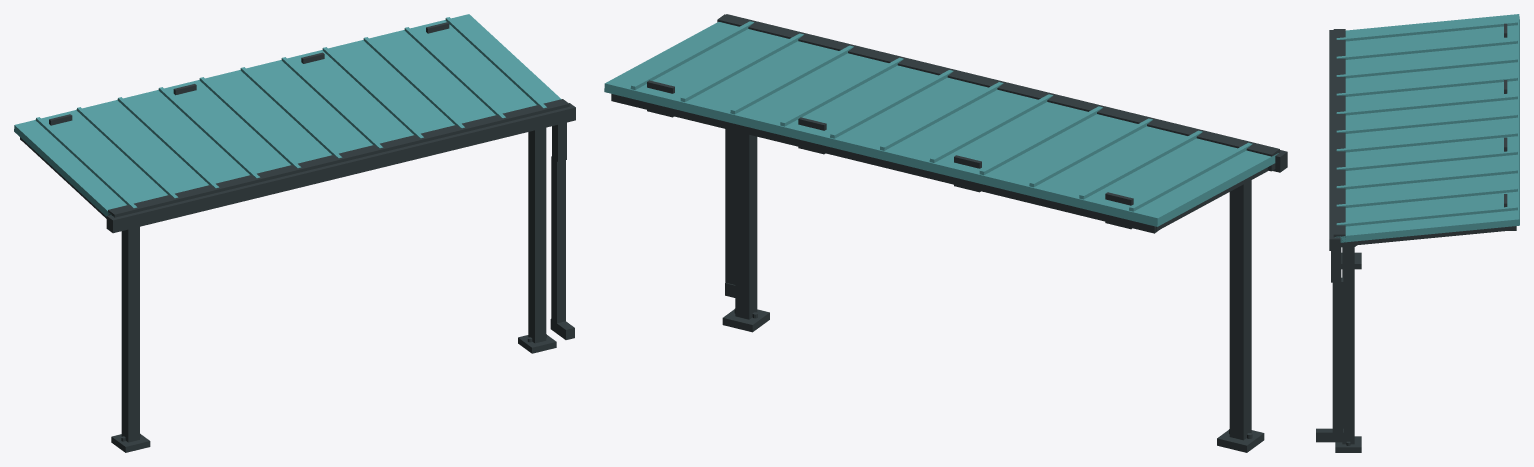
Rendered from yun_storefront_canopy_v05.glb.
The picture shows the model from 3 angles, left to right: view 1: azimuth 30°, elevation 25°; view 2: azimuth 150°, elevation 25°; view 3: azimuth 270°, elevation 25°; orthographic projection. The views are drawn at different scales.
Visible parts, largest first — view 1: Canopy_RoofSheet, RainGutter, Frame_FrontBeam, SupportPost_R, SupportPost_L, Downspout_R_Main, RoofRidge_03, RoofRidge_06, RoofRidge_00, RoofRidge_04, RoofRidge_05, RoofRidge_09 (+5 smaller); view 2: Canopy_RoofSheet, SupportPost_L, Frame_FrontBeam, Frame_WallLedger, SupportPost_R, Downspout_R_Main, RoofRidge_09, RoofRidge_00, RoofRidge_04, RoofRidge_02, RoofRidge_05, RoofRidge_03 (+5 smaller); view 3: Canopy_RoofSheet, Frame_FrontBeam, SupportPost_R, Downspout_R_Main, RainGutter, RoofRidge_08, RoofRidge_10, RoofRidge_06, RoofRidge_01, RoofRidge_05, RoofRidge_07, RoofRidge_09 (+8 smaller).
Boxes of the visible parts, x1=… form: Canopy_RoofSheet: x1=14, y1=14, x2=561, y2=216; RainGutter: x1=106, y1=103, x2=575, y2=233; Frame_FrontBeam: x1=108, y1=99, x2=569, y2=217; SupportPost_R: x1=528, y1=127, x2=546, y2=343; SupportPost_L: x1=121, y1=227, x2=139, y2=442; Downspout_R_Main: x1=551, y1=156, x2=565, y2=324; RoofRidge_03: x1=158, y1=87, x2=260, y2=178; RoofRidge_06: x1=281, y1=57, x2=383, y2=148; RoofRidge_00: x1=35, y1=117, x2=137, y2=208; RoofRidge_04: x1=199, y1=77, x2=301, y2=168; RoofRidge_05: x1=240, y1=67, x2=342, y2=158; RoofRidge_09: x1=404, y1=27, x2=505, y2=118; Canopy_RoofSheet: x1=604, y1=22, x2=1278, y2=226; SupportPost_L: x1=1229, y1=180, x2=1251, y2=440; Frame_FrontBeam: x1=718, y1=14, x2=1279, y2=171; Frame_WallLedger: x1=611, y1=94, x2=1158, y2=233; SupportPost_R: x1=735, y1=131, x2=757, y2=319; Downspout_R_Main: x1=725, y1=129, x2=735, y2=284; RoofRidge_09: x1=680, y1=33, x2=804, y2=102; RoofRidge_00: x1=1129, y1=142, x2=1252, y2=211; RoofRidge_04: x1=929, y1=94, x2=1053, y2=162; RoofRidge_02: x1=1029, y1=118, x2=1152, y2=187; RoofRidge_05: x1=880, y1=82, x2=1003, y2=150; RoofRidge_03: x1=979, y1=106, x2=1102, y2=175; Canopy_RoofSheet: x1=1335, y1=14, x2=1519, y2=242; Frame_FrontBeam: x1=1333, y1=29, x2=1345, y2=247; SupportPost_R: x1=1342, y1=245, x2=1354, y2=444; Downspout_R_Main: x1=1332, y1=277, x2=1343, y2=434; RainGutter: x1=1329, y1=30, x2=1340, y2=250; RoofRidge_08: x1=1336, y1=169, x2=1517, y2=189; RoofRidge_10: x1=1336, y1=206, x2=1517, y2=226; RoofRidge_06: x1=1336, y1=132, x2=1517, y2=152; RoofRidge_01: x1=1336, y1=39, x2=1517, y2=59; RoofRidge_05: x1=1336, y1=113, x2=1517, y2=133; RoofRidge_07: x1=1336, y1=150, x2=1517, y2=170; RoofRidge_09: x1=1336, y1=187, x2=1517, y2=207.
Size of the model in its own units: 5.65 by 3.05 by 2.33.
